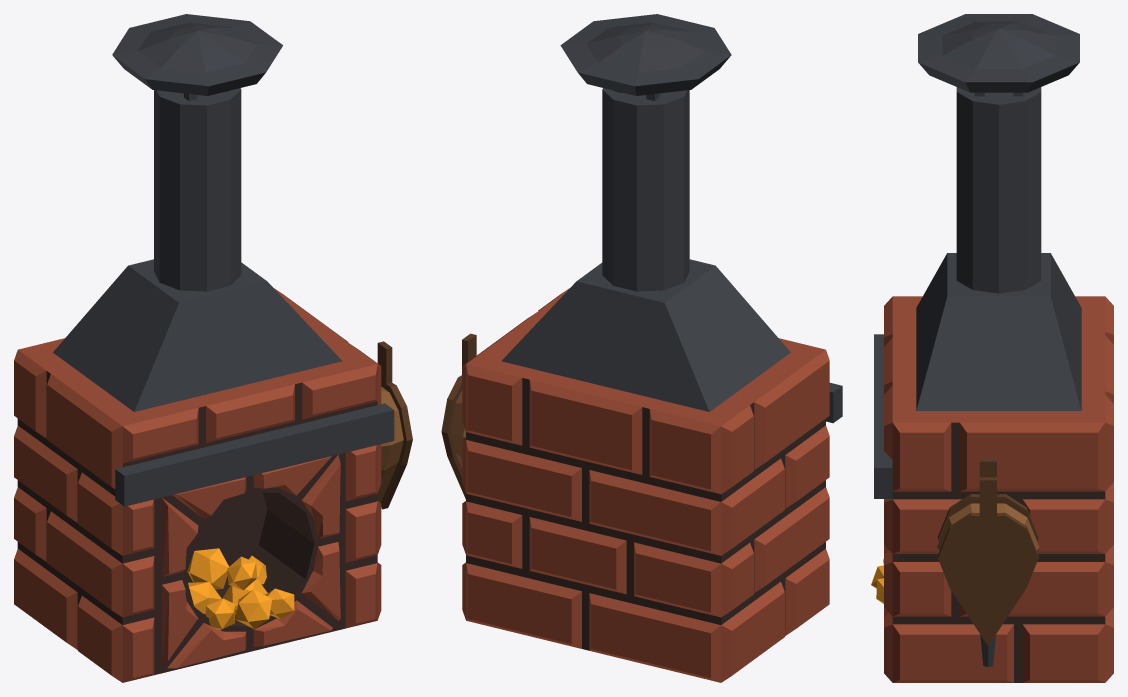
The model's file is forge.glb.
The picture shows the model from 3 angles, left to right: view 1: azimuth 30°, elevation 25°; view 2: azimuth 150°, elevation 25°; view 3: azimuth 270°, elevation 25°; orthographic projection.
Visible parts, largest first — view 1: Bricks, Iron, Mortar, Glow, Wood, Bellows; view 2: Bricks, Iron, Mortar, Wood, Bellows; view 3: Bricks, Iron, Wood, Mortar, Bellows.
Part boxes in pixels (x1=…): Bricks: x1=14, y1=288, x2=381, y2=682; Iron: x1=53, y1=14, x2=394, y2=506; Mortar: x1=17, y1=371, x2=377, y2=674; Glow: x1=187, y1=548, x2=294, y2=629; Wood: x1=377, y1=341, x2=412, y2=509; Bellows: x1=377, y1=386, x2=403, y2=501; Bricks: x1=462, y1=288, x2=829, y2=682; Iron: x1=501, y1=14, x2=842, y2=423; Mortar: x1=466, y1=378, x2=825, y2=650; Wood: x1=441, y1=333, x2=476, y2=498; Bellows: x1=450, y1=390, x2=465, y2=468; Bricks: x1=884, y1=296, x2=1113, y2=682; Iron: x1=874, y1=14, x2=1081, y2=666; Wood: x1=938, y1=458, x2=1038, y2=645; Mortar: x1=892, y1=422, x2=1105, y2=682; Bellows: x1=937, y1=503, x2=1039, y2=551.
Size of the model in its own units: 5.22 by 9.08 by 3.38.
